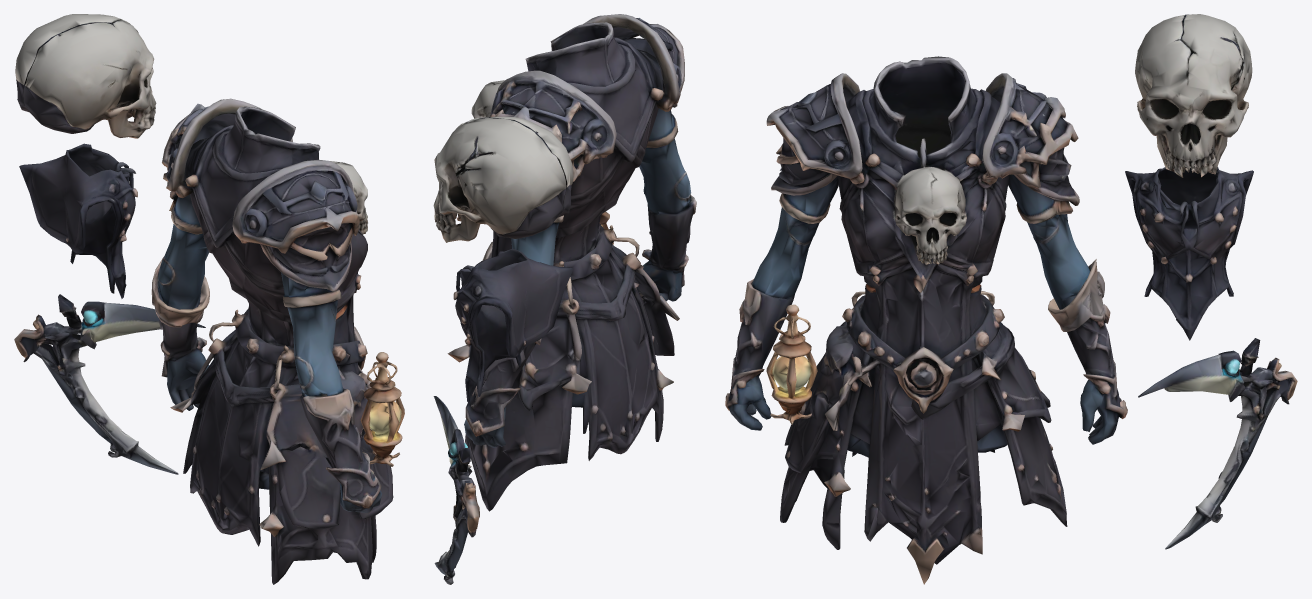
Rendered from tripo_h31_character_necromancer_scythe_kit.glb.
The picture shows the model from 3 angles, left to right: view 1: azimuth 30°, elevation 25°; view 2: azimuth 150°, elevation 25°; view 3: azimuth 270°, elevation 25°; orthographic projection. The views are drawn at different scales.
Visible parts, largest first — view 1: tripo_node_ee98b390-d4bb-45e9-9abd-bb4daf30ea82; view 2: tripo_node_ee98b390-d4bb-45e9-9abd-bb4daf30ea82; view 3: tripo_node_ee98b390-d4bb-45e9-9abd-bb4daf30ea82.
Part boxes in pixels (bbox=[...]): tripo_node_ee98b390-d4bb-45e9-9abd-bb4daf30ea82: bbox=[14, 14, 404, 584]; tripo_node_ee98b390-d4bb-45e9-9abd-bb4daf30ea82: bbox=[433, 14, 696, 584]; tripo_node_ee98b390-d4bb-45e9-9abd-bb4daf30ea82: bbox=[725, 14, 1297, 584].
Size of the model in its own units: 0.4502 by 0.9281 by 0.9782.
1 material, 1 textured.
